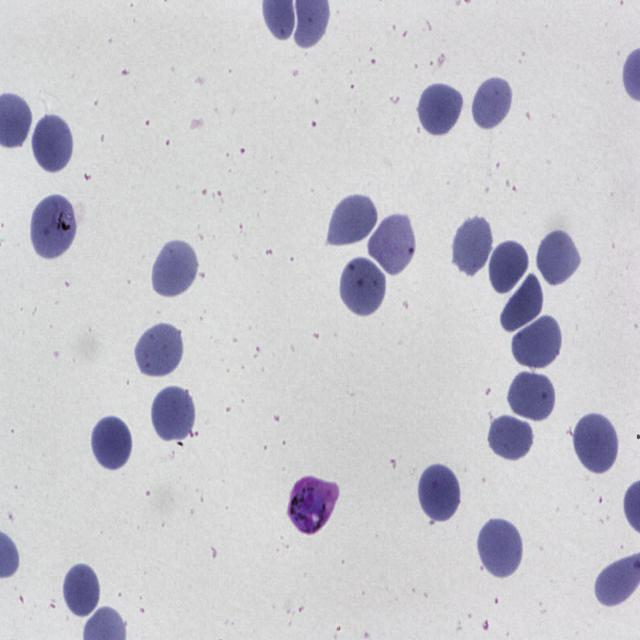red blood cell: (366, 210, 418, 280), (29, 193, 80, 264), (572, 408, 620, 478), (338, 253, 388, 320), (150, 235, 200, 300), (476, 514, 524, 581), (510, 313, 564, 372), (132, 320, 185, 380), (535, 226, 583, 288), (506, 367, 559, 423), (327, 192, 380, 248), (150, 382, 197, 445), (416, 462, 463, 524), (31, 110, 74, 176), (416, 80, 464, 139), (89, 413, 134, 473), (500, 272, 544, 333), (60, 558, 102, 620), (485, 413, 536, 464), (452, 215, 493, 276), (488, 238, 530, 297), (472, 75, 514, 129)
trophozoite: (286, 474, 339, 536)
